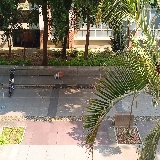fire: (57, 71, 63, 77)
